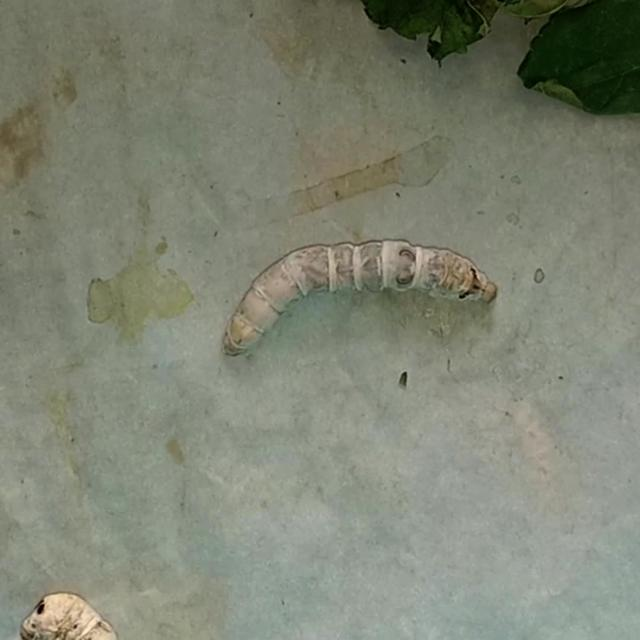Grasserie: (199, 205, 517, 404)
